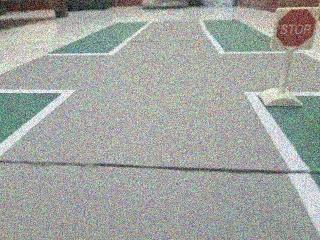stop: (270, 1, 317, 55)
